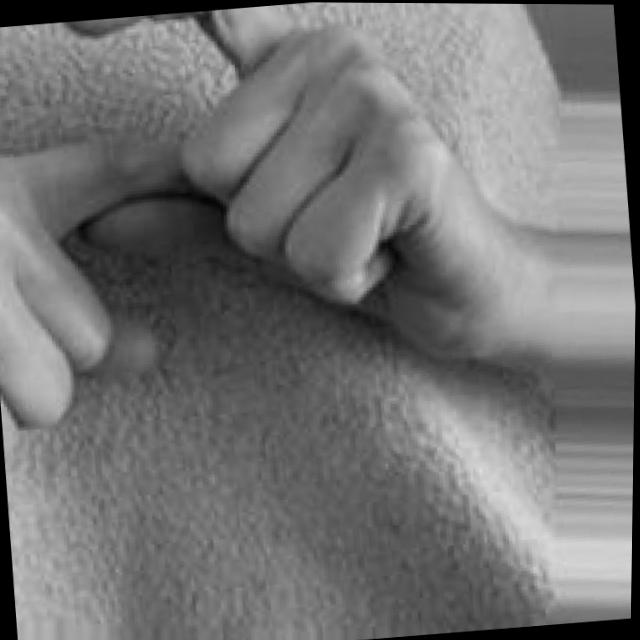S: (0, 0, 506, 466)
